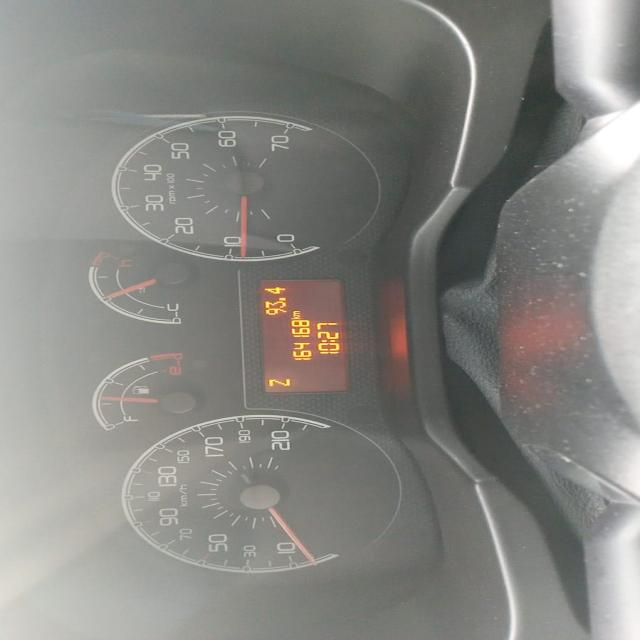odometer: (262, 278, 343, 393)
